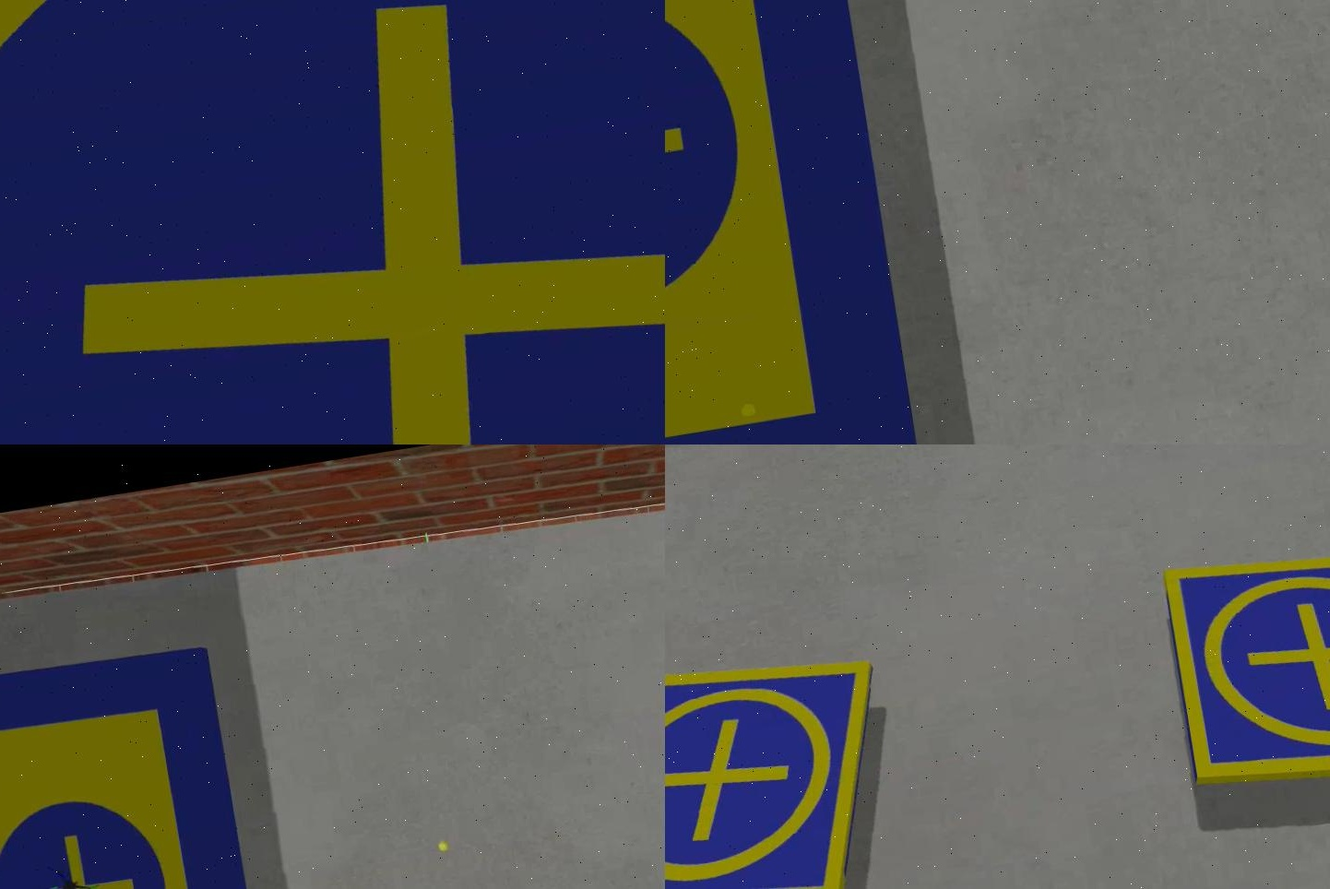large_base: (0, 1, 663, 445), (663, 1, 923, 445), (0, 641, 281, 889)
small_base: (663, 641, 908, 889), (1155, 520, 1328, 813)
